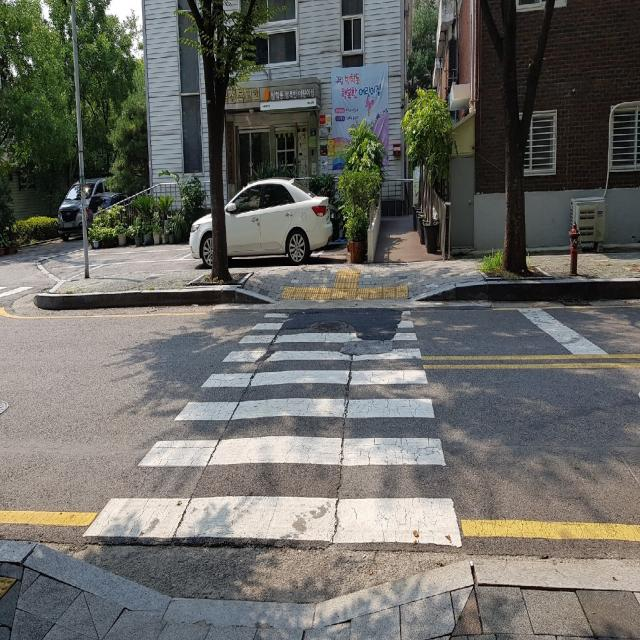횡단보도: (82, 310, 462, 548)
